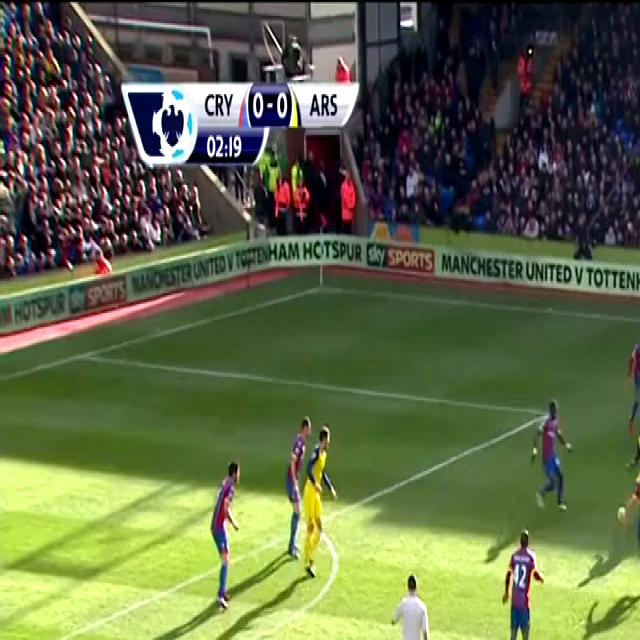ball: (616, 495, 634, 534)
referee: (391, 567, 439, 640)
soccer-player: (201, 452, 245, 626), (280, 405, 320, 579), (495, 524, 551, 640), (532, 387, 578, 518), (624, 318, 640, 438), (626, 453, 640, 585), (629, 416, 640, 501)
